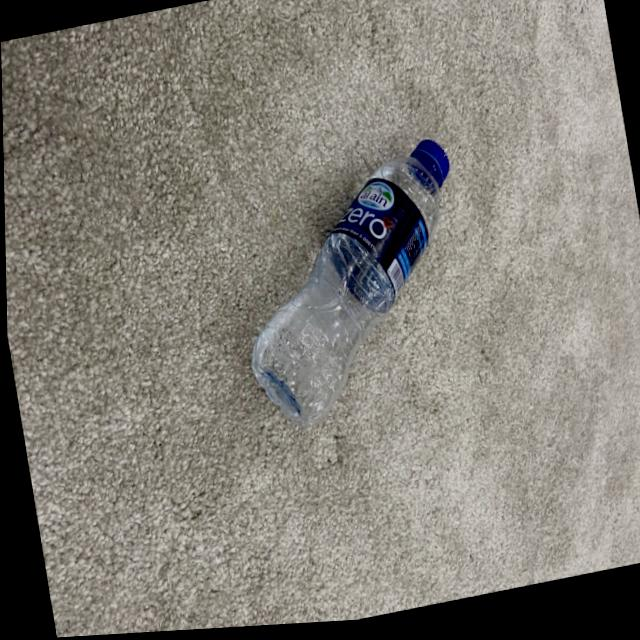anorganik: (220, 128, 496, 441)
